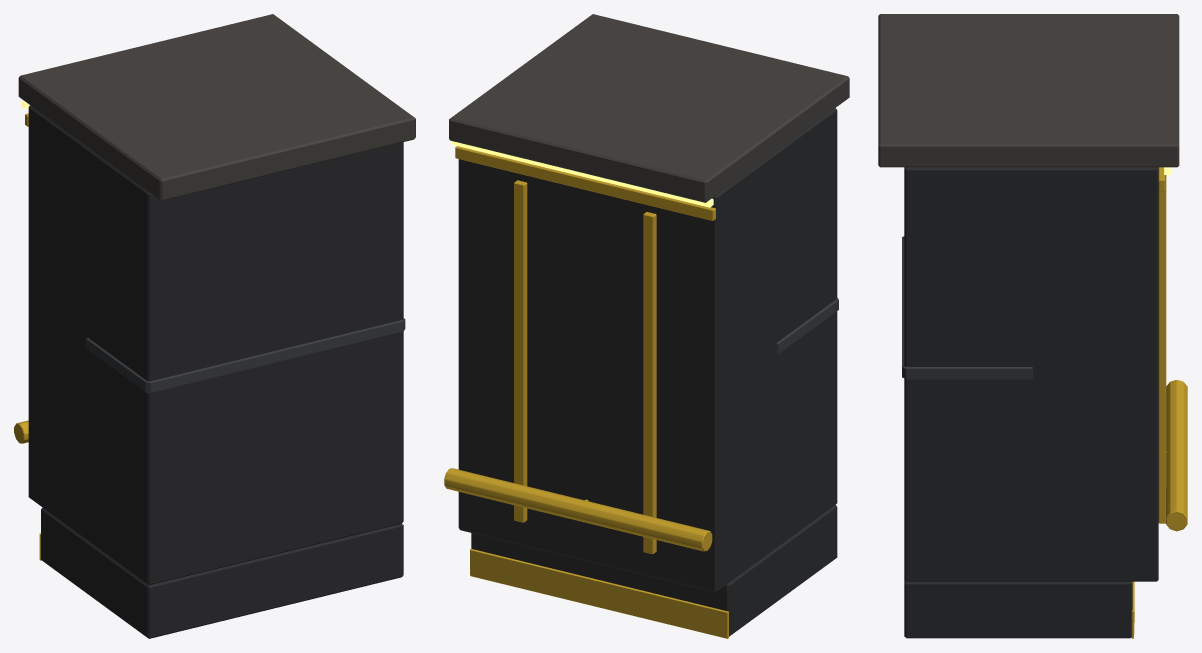
Rendered from prop_ah_bar_counter_end.glb.
3 views of the same model, side by side, from view 1: azimuth 30°, elevation 25°; view 2: azimuth 150°, elevation 25°; view 3: azimuth 270°, elevation 25° (orthographic). The views are drawn at different scales.
Parts seen in each view (by area): view 1: Body; view 2: Body; view 3: Body.
Part boxes in pixels (x1,y1,x2,y2): Body: [14, 14, 415, 638]; Body: [444, 14, 849, 638]; Body: [878, 14, 1187, 638].
Size of the model in its own units: 0.608 by 1.05 by 0.5959.
